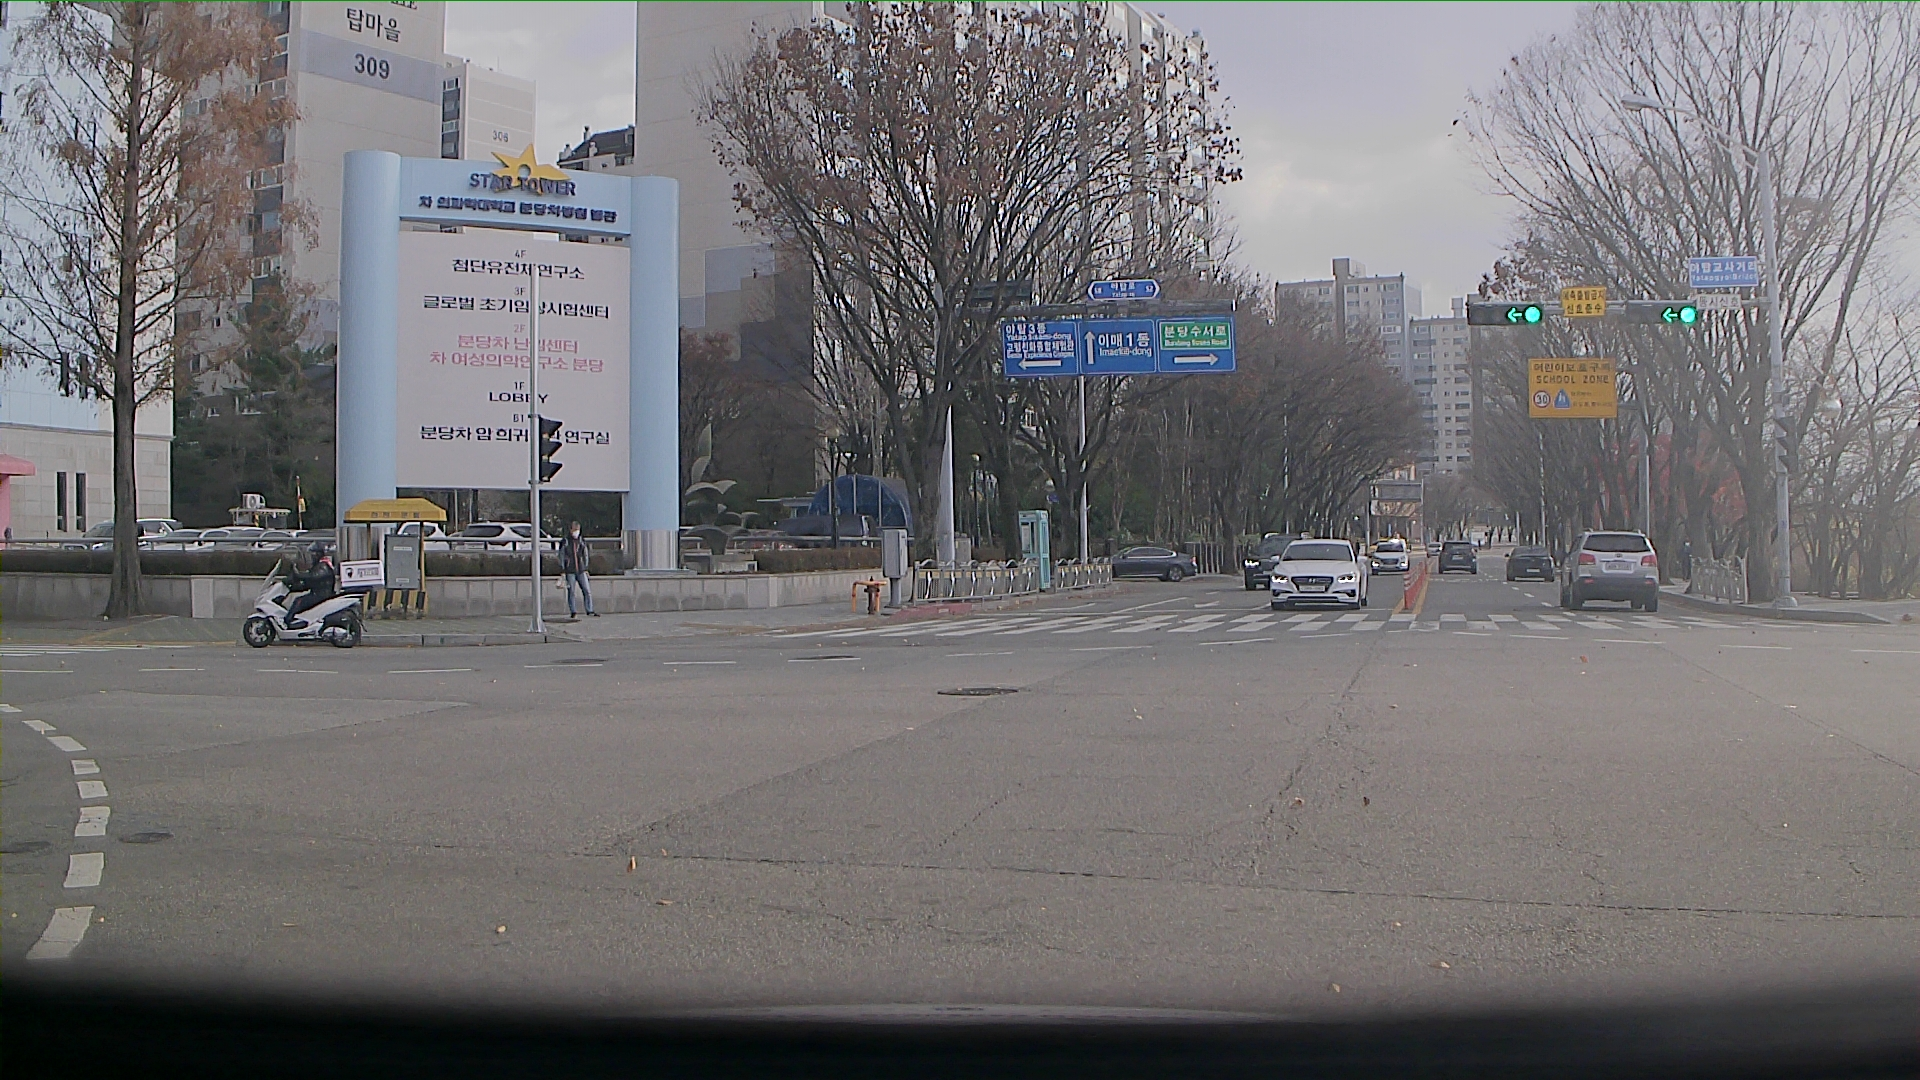trafficLight: (1468, 301, 1547, 331), (1623, 301, 1701, 324)
trafficSignRTG: (1523, 355, 1625, 419)
